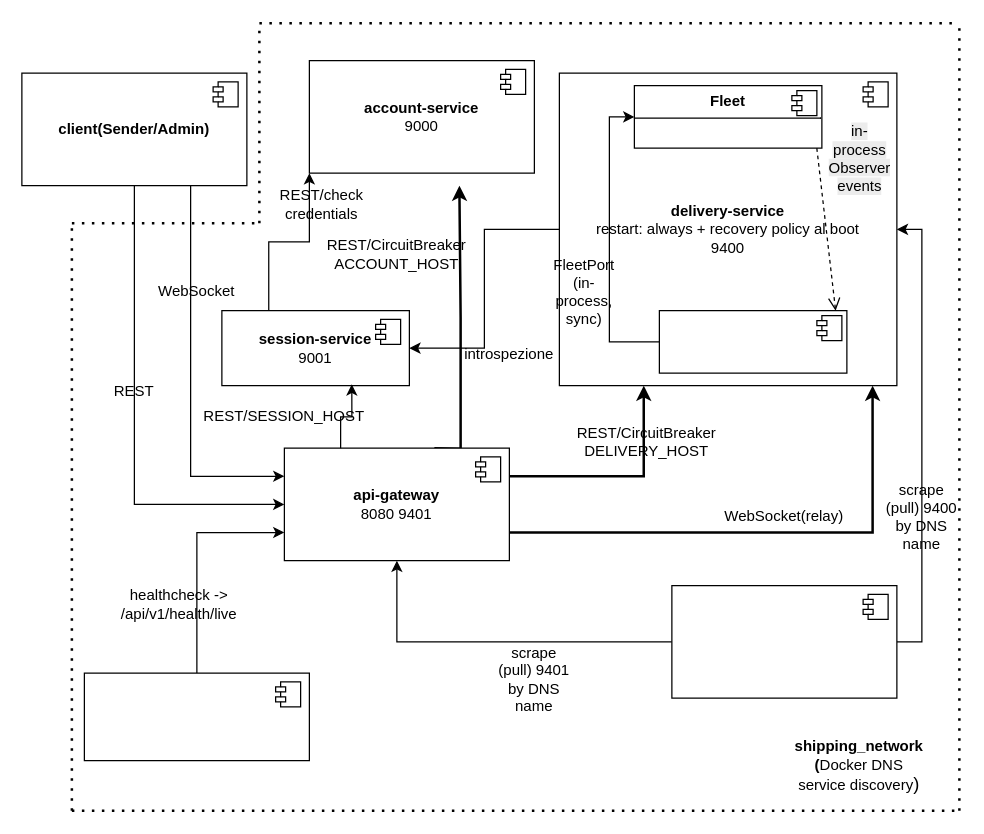
Some shapes in this 984 by 834 pixel diagram are drawn without their labels. Each missing label, with the centre of its shape:
"autoheal" goes at (x=196, y=716).
"Deliveries" goes at (x=752, y=341).
"prometheus 9090" goes at (x=784, y=641).
